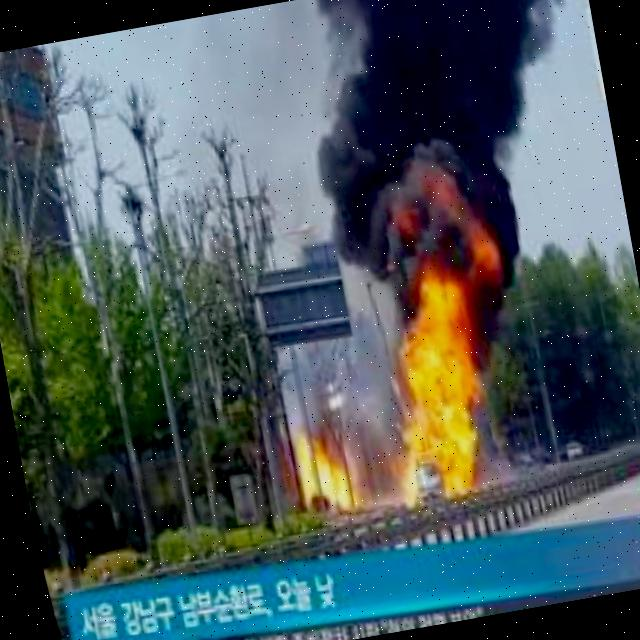fire: (377, 313, 500, 491), (291, 447, 350, 513), (406, 269, 464, 325), (383, 472, 413, 504)
